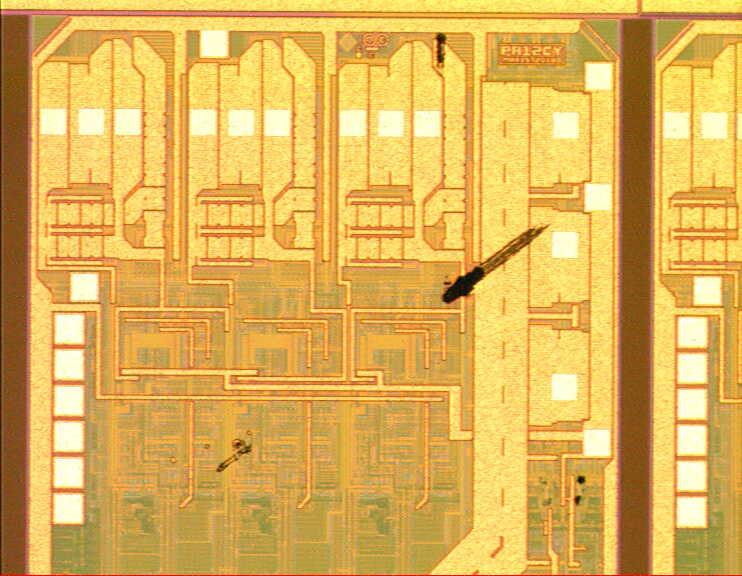SCRATCH: (189, 14, 597, 530)
